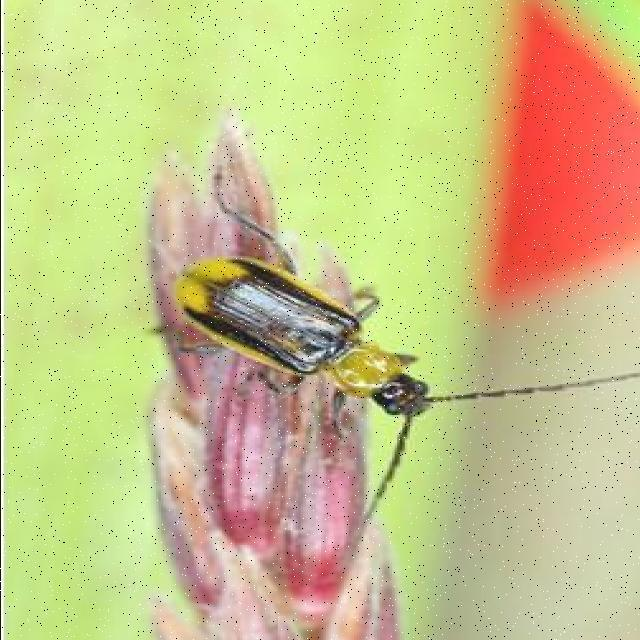trips: (151, 225, 469, 461)
